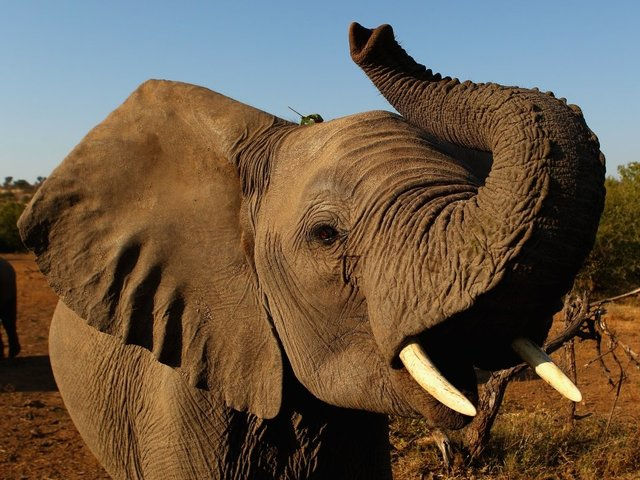elephant: (20, 14, 613, 480)
